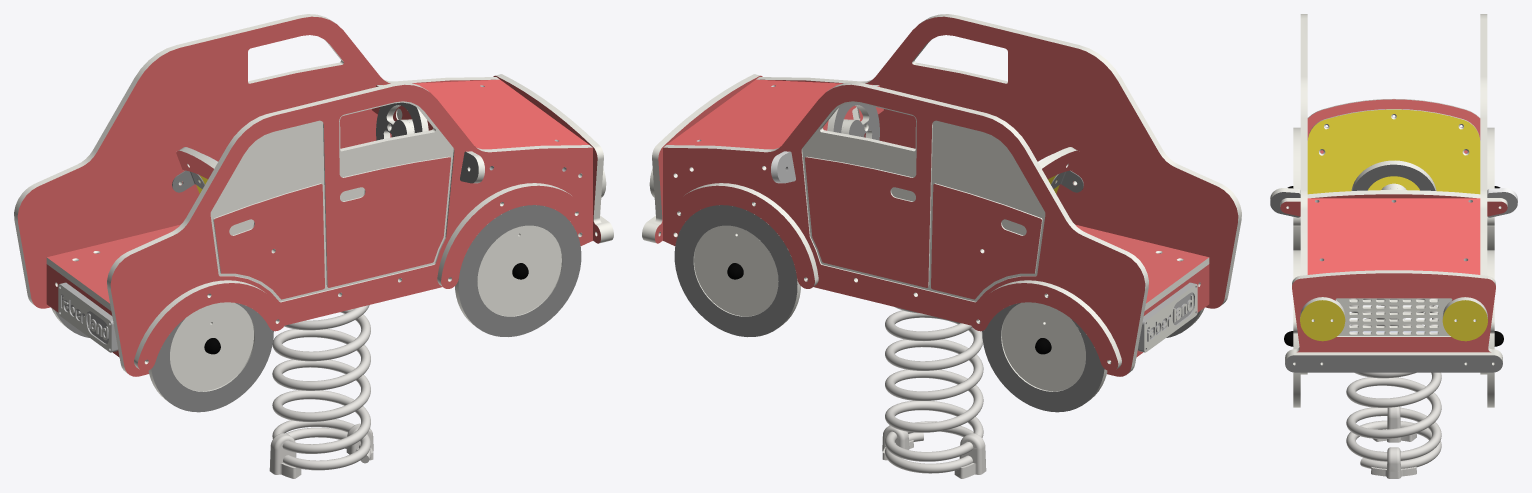
Rendered from fjäder-bil.glb.
3 views of the same model, side by side, from view 1: azimuth 30°, elevation 25°; view 2: azimuth 150°, elevation 25°; view 3: azimuth 270°, elevation 25° (orthographic). The views are drawn at different scales.
Visible parts, largest first — view 1: FLFJ535_A_3D_OBJ_20260804; view 2: FLFJ535_A_3D_OBJ_20260804; view 3: FLFJ535_A_3D_OBJ_20260804.
Part boxes in pixels (box(x1,y1,x2,y2)): FLFJ535_A_3D_OBJ_20260804: box(14, 14, 613, 478); FLFJ535_A_3D_OBJ_20260804: box(642, 14, 1241, 478); FLFJ535_A_3D_OBJ_20260804: box(1270, 14, 1517, 478).
Bounding box in the file's own units: 1.16 × 0.9036 × 0.5195.
5 materials, 5 textured.
